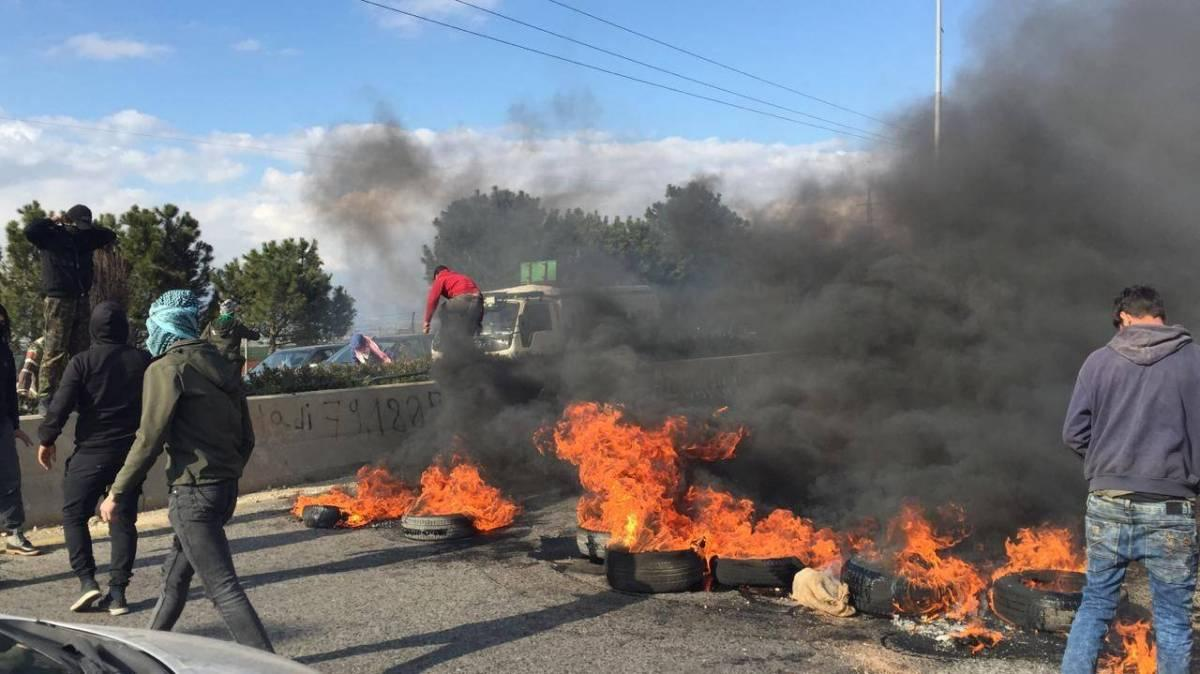fire: (534, 403, 846, 572), (885, 496, 1005, 658), (290, 461, 516, 533), (1005, 522, 1088, 593), (1103, 618, 1152, 674), (847, 519, 883, 570)
smoke: (746, 194, 1075, 513), (433, 96, 745, 409), (868, 0, 1200, 192), (301, 90, 430, 288), (1075, 193, 1200, 322), (388, 411, 539, 459)
